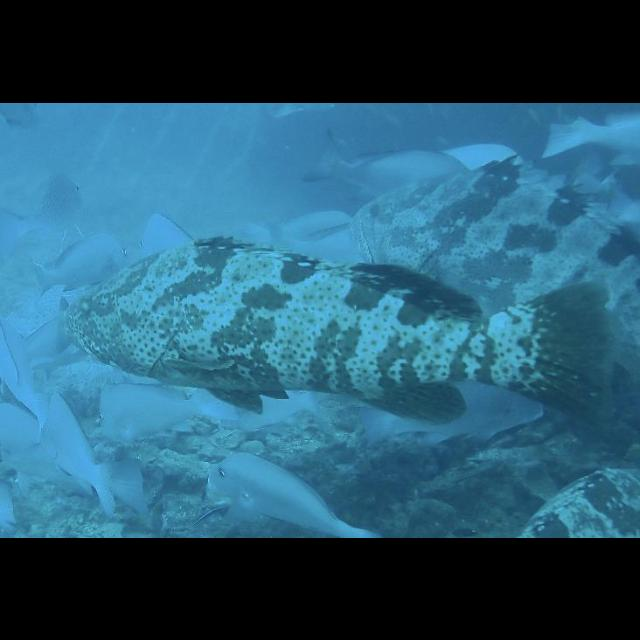Groupers: (62, 238, 614, 424)
